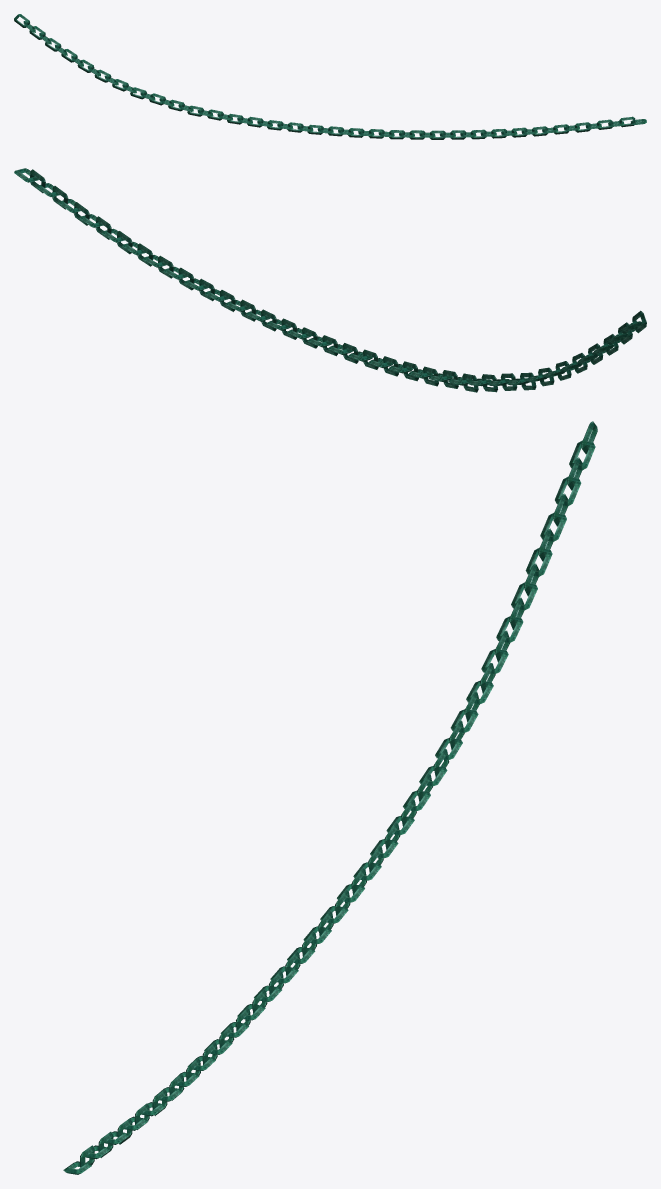
File: 5st_chain_001.fbx
3 views of the same model, one above another, from view 1: azimuth 30°, elevation 25°; view 2: azimuth 150°, elevation 25°; view 3: azimuth 270°, elevation 25° (orthographic). The views are drawn at different scales.
Visible parts, largest first — view 1: 5st_chain_1; view 2: 5st_chain_1; view 3: 5st_chain_1.
Boxes of the visible parts, bbox=[...] form: 5st_chain_1: bbox=[14, 14, 646, 139]; 5st_chain_1: bbox=[14, 168, 646, 392]; 5st_chain_1: bbox=[63, 421, 597, 1174].
Size of the model in its own units: 41.04 by 11.26 by 18.91.
